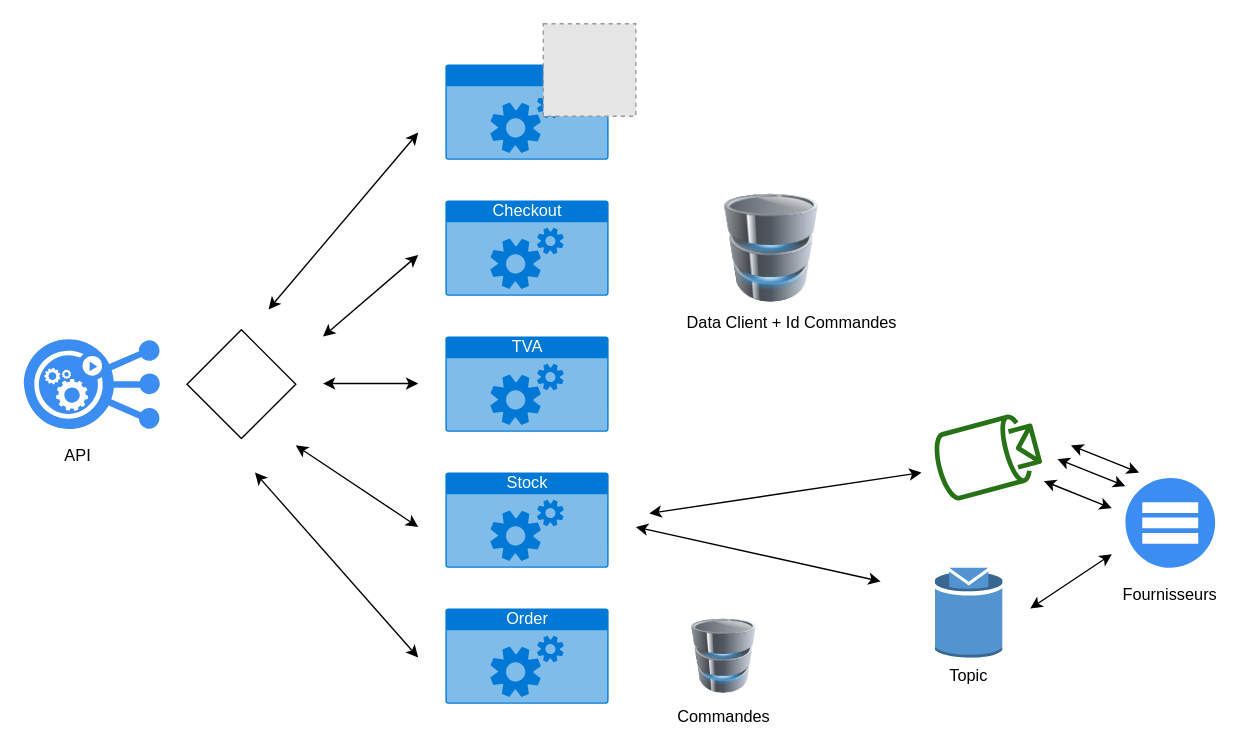
This 1240x755 diagram has some shape labels left out. Grey dashed boxes stand in for pictures. The box of each missing label's shape, as (x1, y1, x2, y2) in pixels:
Cart: (445, 64, 608, 159)
EUREKA: (186, 328, 296, 439)
